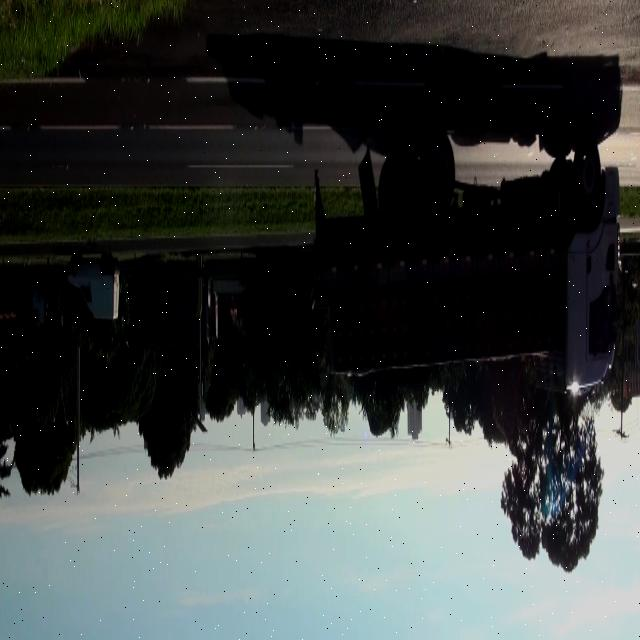-axle: (423, 136, 456, 230), (388, 140, 418, 224), (574, 142, 602, 224)
